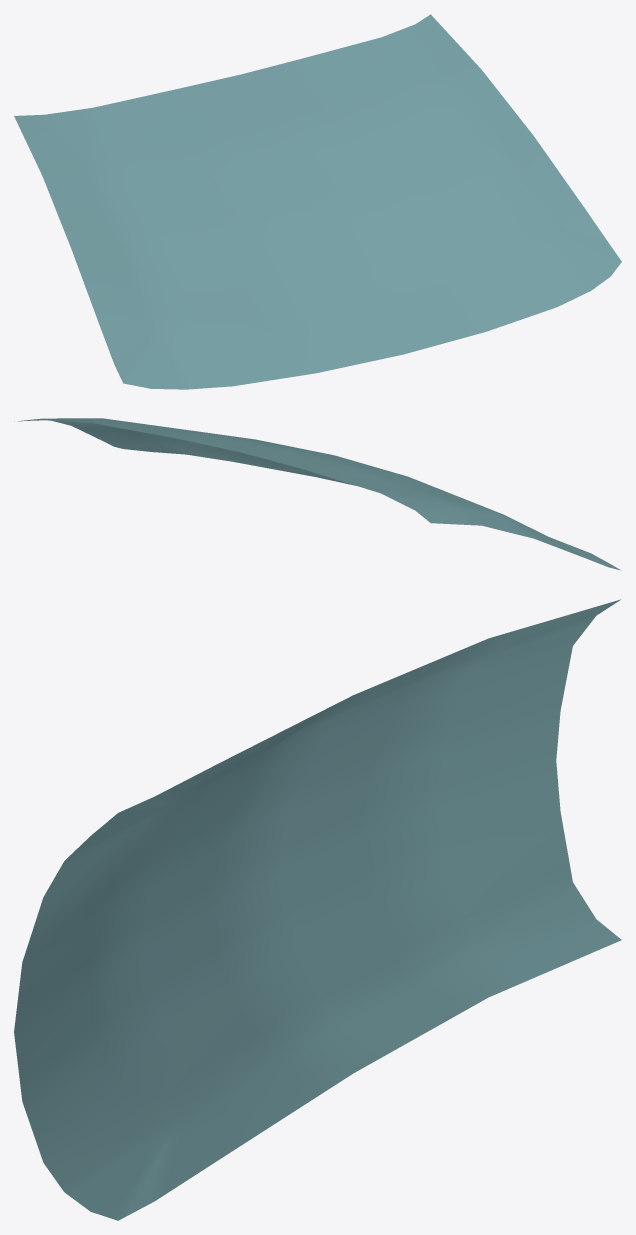
File: SUV_1_Window_F_Tessellate.fbx
3 renders of one model, top to bottom at view 1: azimuth 30°, elevation 25°; view 2: azimuth 150°, elevation 25°; view 3: azimuth 270°, elevation 25°, orthographic. The views are drawn at different scales.
Parts seen in each view (by area): view 1: SUV_1_Window_F_Tessellate; view 2: SUV_1_Window_F_Tessellate; view 3: SUV_1_Window_F_Tessellate.
Boxes of the visible parts, x1,y1,x2,y2 form: SUV_1_Window_F_Tessellate: [14, 14, 621, 389]; SUV_1_Window_F_Tessellate: [14, 418, 621, 570]; SUV_1_Window_F_Tessellate: [14, 599, 621, 1220].
Bounding box in the file's own units: 152 × 47.11 × 95.64.
